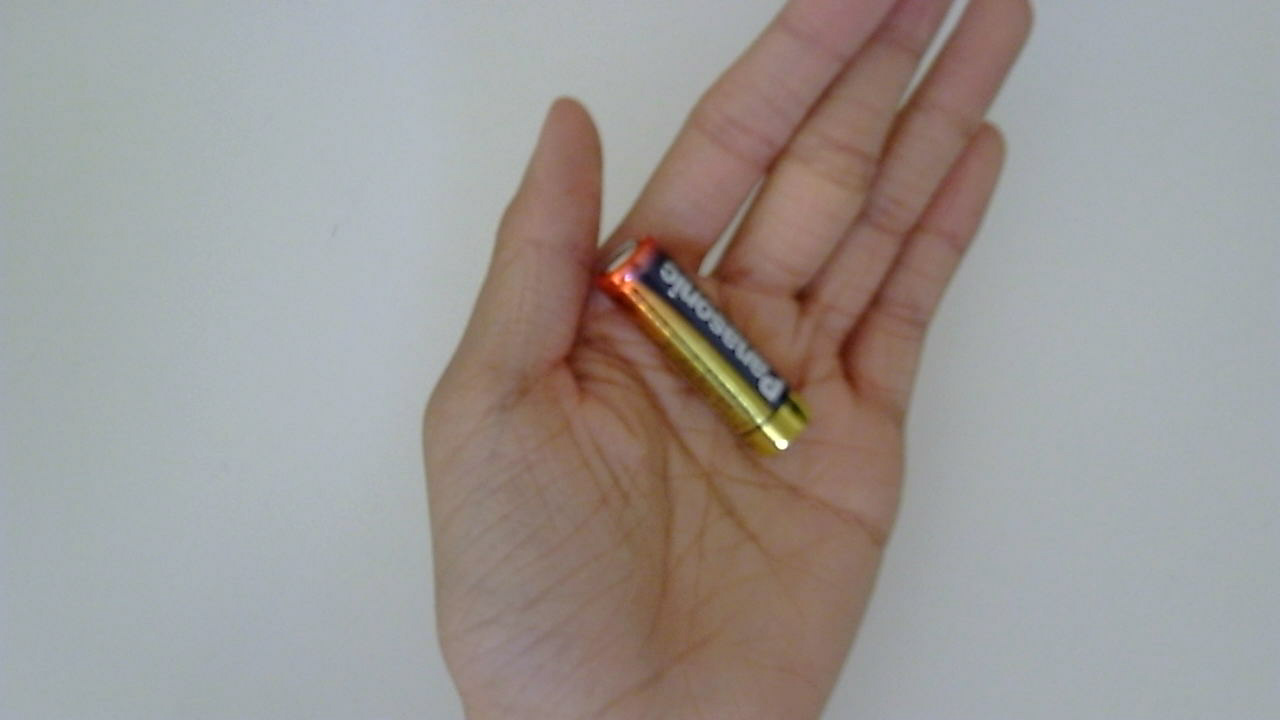Battery: (596, 237, 820, 474)
